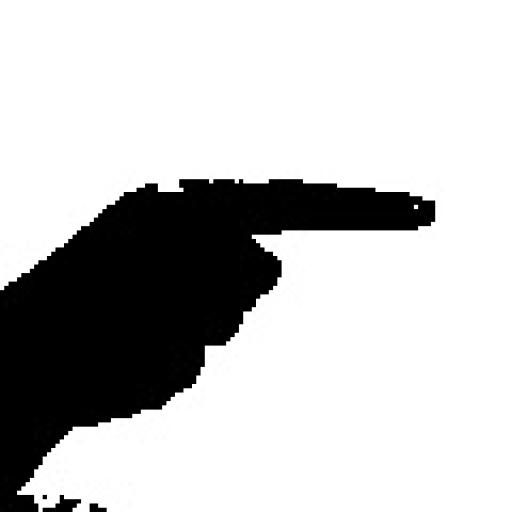index_right: (0, 176, 436, 372)
